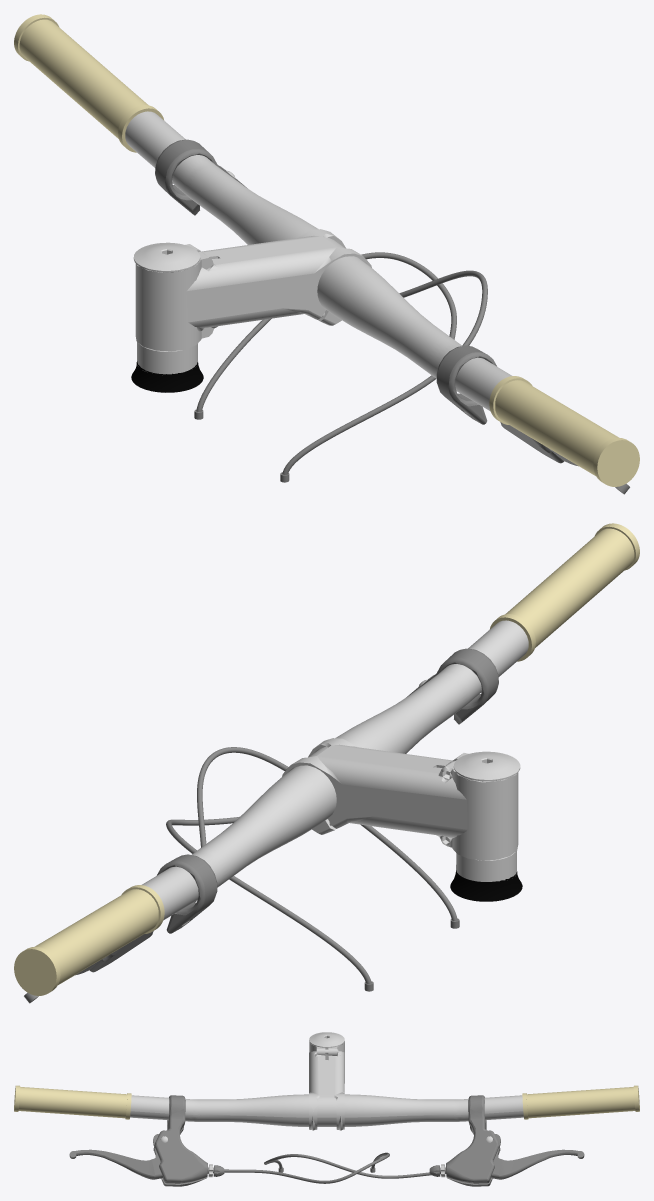
The model's file is Handle5_Flat_NoShifter.glb.
3 renders of one model, top to bottom at view 1: azimuth 30°, elevation 25°; view 2: azimuth 150°, elevation 25°; view 3: azimuth 270°, elevation 25°, orthographic. The views are drawn at different scales.
Visible parts, largest first — view 1: no_transformations (×6); view 2: no_transformations (×6); view 3: no_transformations (×5).
Boxes of the visible parts, x1,y1,x2,y2 form: no_transformations (×6): (14, 14, 639, 494); no_transformations (×6): (14, 523, 639, 1003); no_transformations (×5): (14, 1032, 639, 1186).
Bounding box in the file's own units: 198 × 125 × 614.
